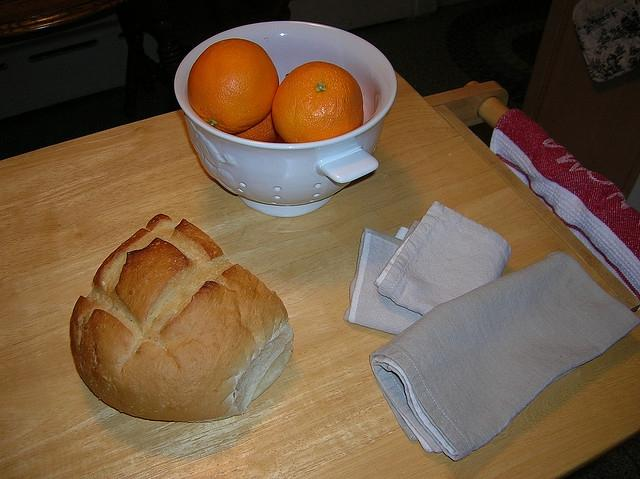orange: (188, 38, 279, 134), (272, 61, 364, 143), (230, 110, 279, 142)
